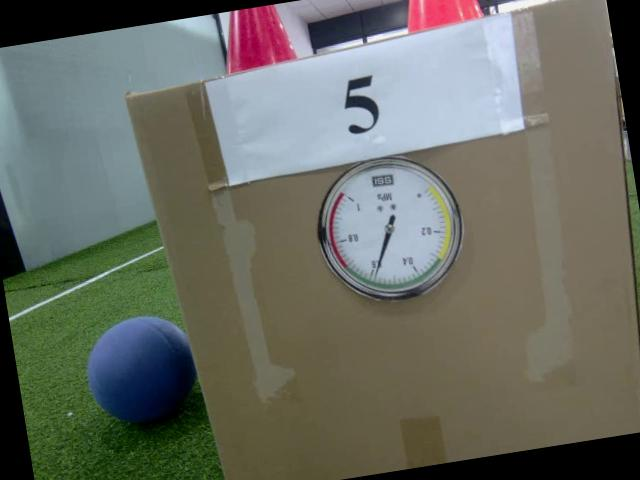5: (336, 70, 384, 138)
Dashboard: (308, 149, 470, 312)
blue_ball: (80, 310, 202, 431)
orange_barrel: (399, 0, 484, 32)
red_barrel: (216, 3, 300, 74)
ssi: (368, 173, 396, 189)
